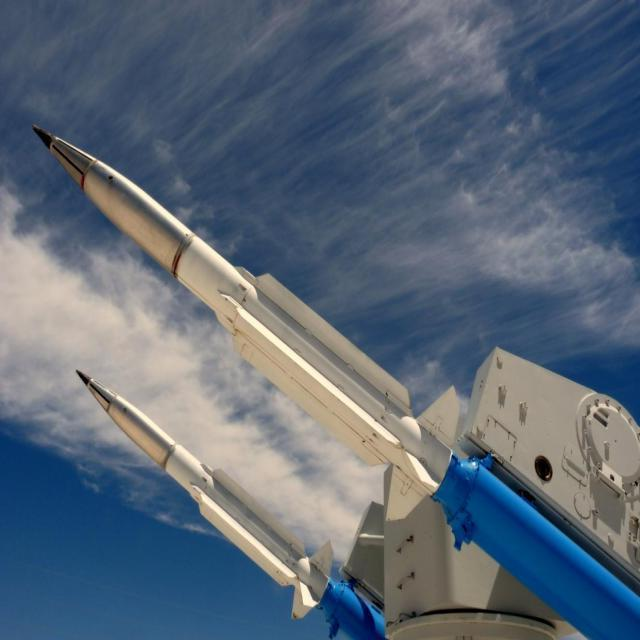Missile: (0, 76, 475, 511), (40, 331, 355, 638)
